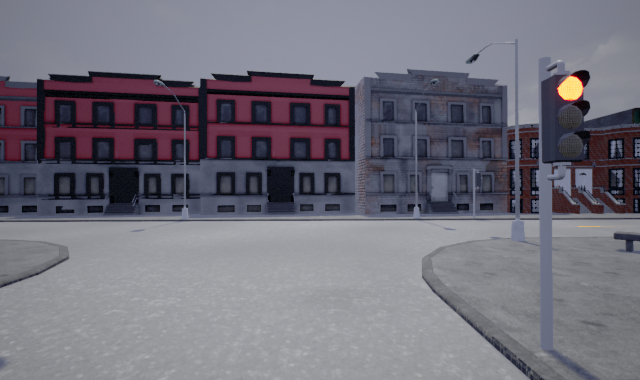traffic_light: (539, 69, 591, 161)
